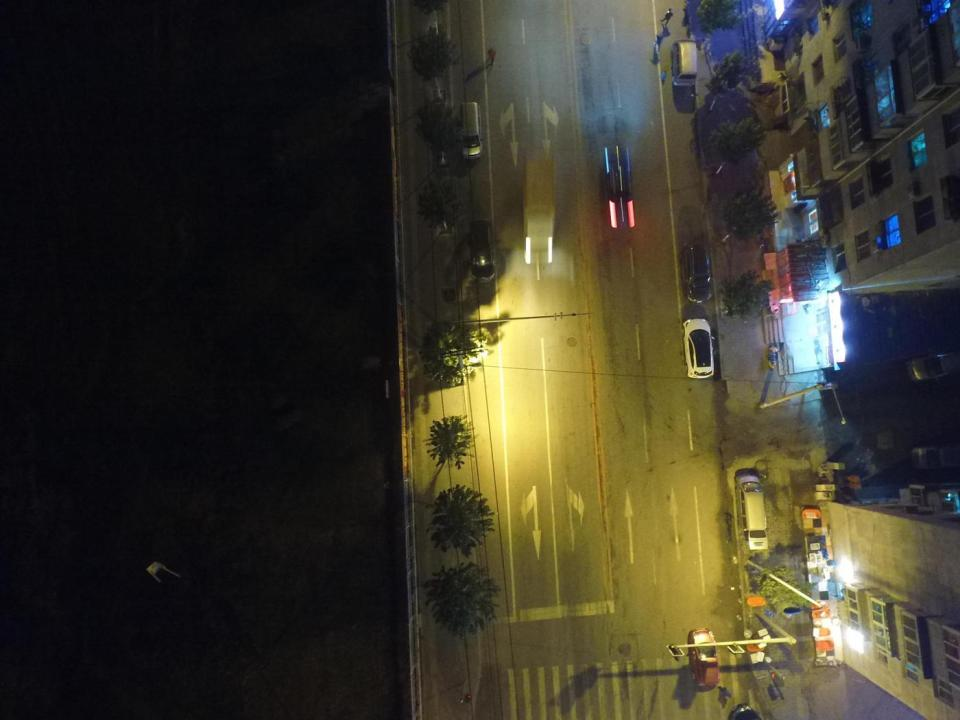car: (605, 146, 635, 228), (682, 319, 714, 377), (688, 628, 719, 685)
truck: (524, 158, 553, 262)
van: (734, 475, 768, 549), (468, 219, 496, 282), (682, 245, 711, 303), (907, 352, 960, 382), (458, 102, 482, 158), (910, 445, 960, 470), (671, 39, 697, 86)
